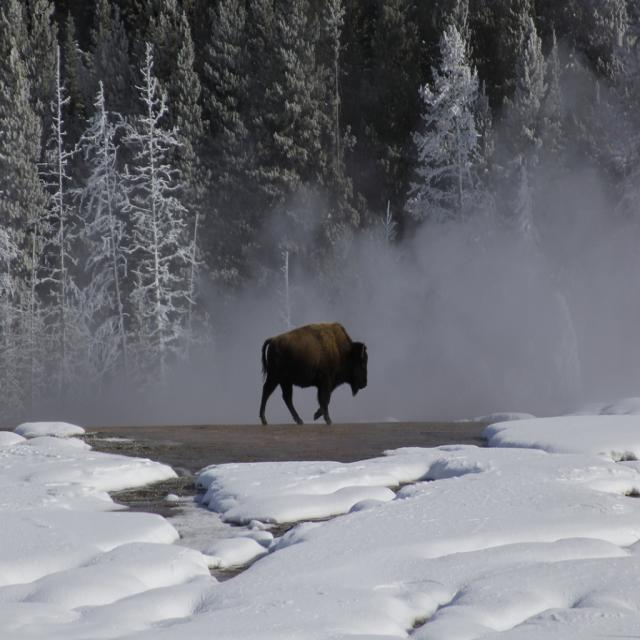Bull: (257, 322, 370, 428)
